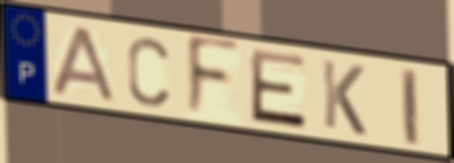A: (49, 23, 119, 105)
C: (125, 34, 172, 110)
E: (247, 46, 309, 131)
F: (184, 32, 243, 121)
I: (398, 65, 422, 149)
K: (319, 56, 369, 139)
